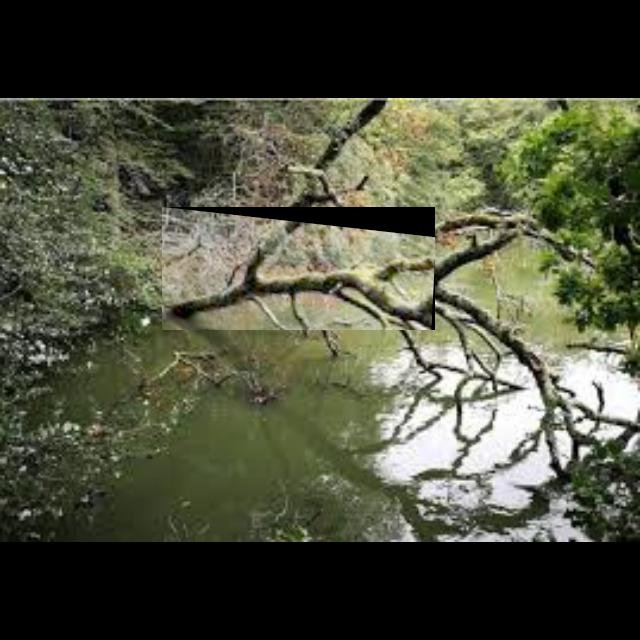Fallen Tree: (162, 207, 436, 331)
